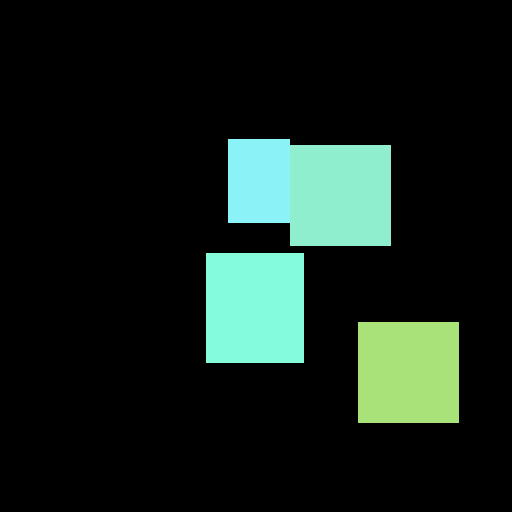circle: (228, 139, 390, 245)
rectangle: (206, 253, 303, 362)
square: (358, 322, 458, 422)
